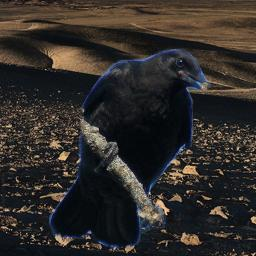Crow: (49, 49, 211, 250)
